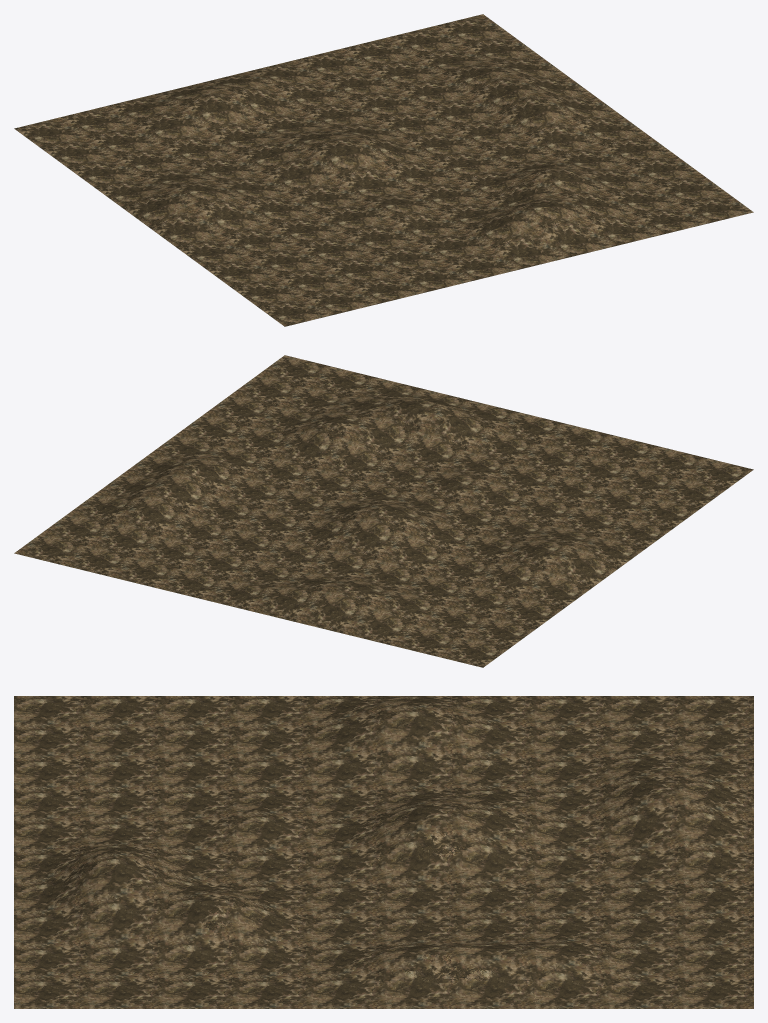
The model's file is terrain.dae.
The picture shows the model from 3 angles, top to bottom: view 1: azimuth 30°, elevation 25°; view 2: azimuth 150°, elevation 25°; view 3: azimuth 270°, elevation 25°; orthographic projection. The views are drawn at different scales.
Visible parts, largest first — view 1: Plane; view 2: Plane; view 3: Plane.
Boxes of the visible parts, <box> form: Plane: <box>14,14,753,326</box>; Plane: <box>14,355,753,667</box>; Plane: <box>14,696,753,1008</box>.
Size of the model in its own units: 136 by 136 by 5.76.
1 material, 1 textured.
